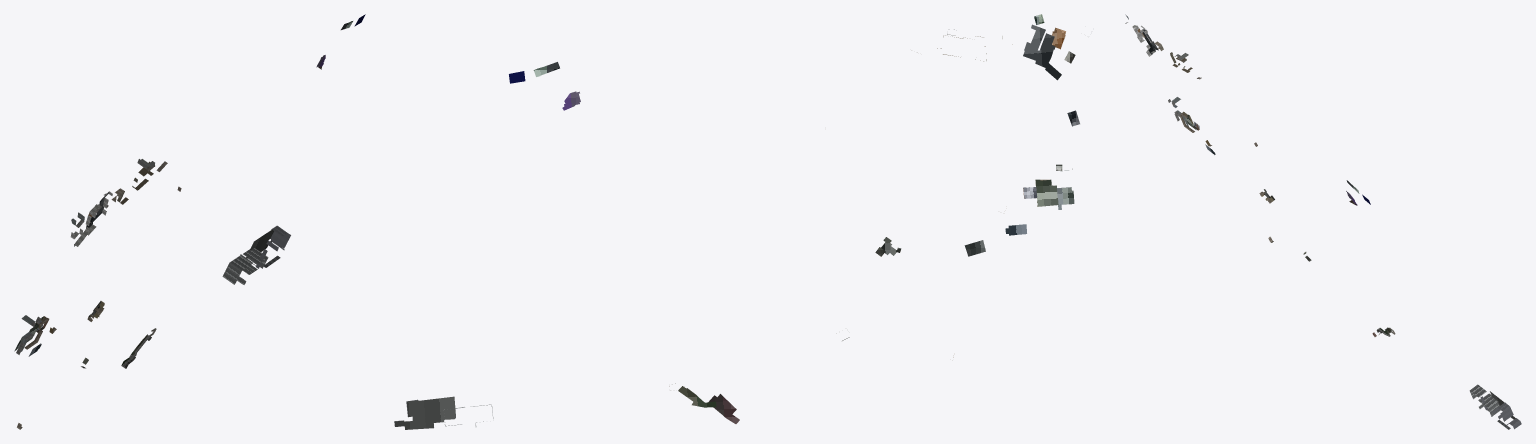
File: tile_LOD4_r2_c2.glb
3 renders of one model, left to right at view 1: azimuth 30°, elevation 25°; view 2: azimuth 150°, elevation 25°; view 3: azimuth 270°, elevation 25°, orthographic. The views are drawn at different scales.
Size of the model in its own units: 493 by 342 by 478.
Materials: 66 (66 with a texture image).
